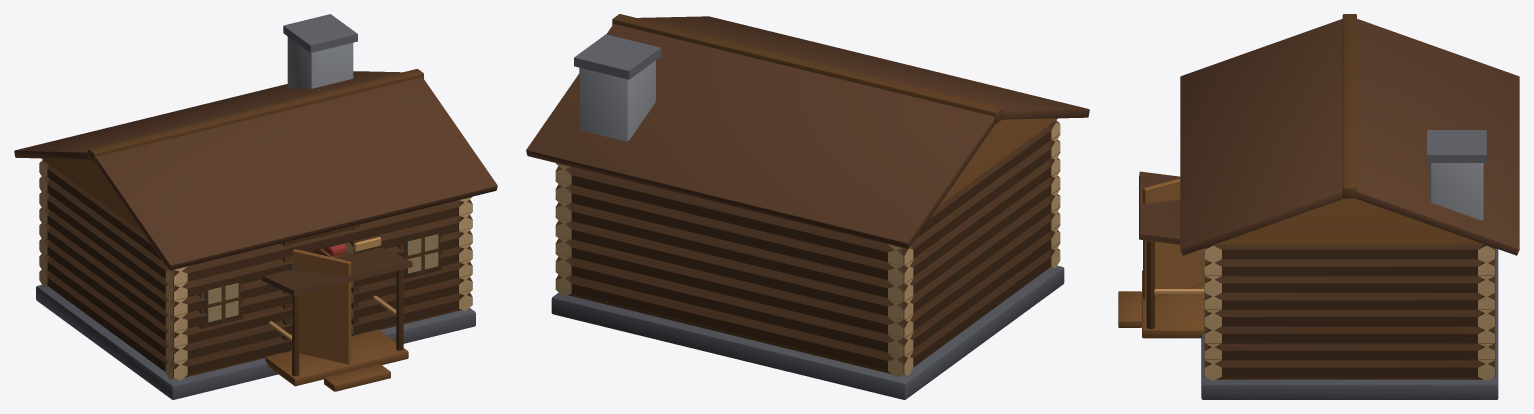
Rendered from cabin.glb.
3 views of the same model, side by side, from view 1: azimuth 30°, elevation 25°; view 2: azimuth 150°, elevation 25°; view 3: azimuth 270°, elevation 25° (orthographic). The views are drawn at different scales.
Visible parts, largest first — view 1: cabin, cabin_craft; view 2: cabin; view 3: cabin, cabin_craft.
Boxes of the visible parts, x1,y1,x2,y2 form: cabin: (14,14,497,399); cabin_craft: (208,234,438,364); cabin: (526,14,1089,399); cabin: (1118,14,1519,399); cabin_craft: (1143,178,1204,306).
Size of the model in its own units: 6.95 by 4.42 by 6.76.
14 materials, 1 textured.
